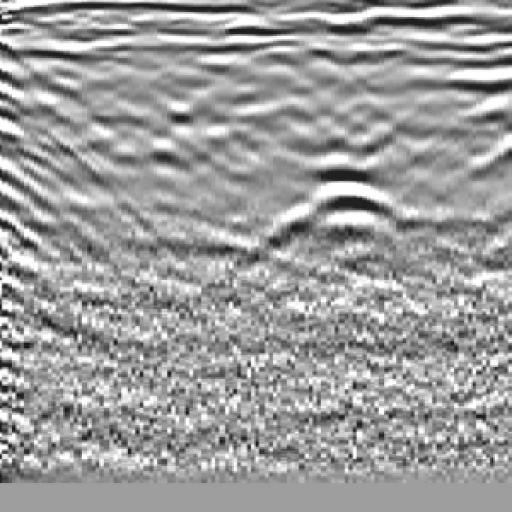metalic: (268, 148, 434, 260)
nonmetalic: (1, 54, 113, 278)
